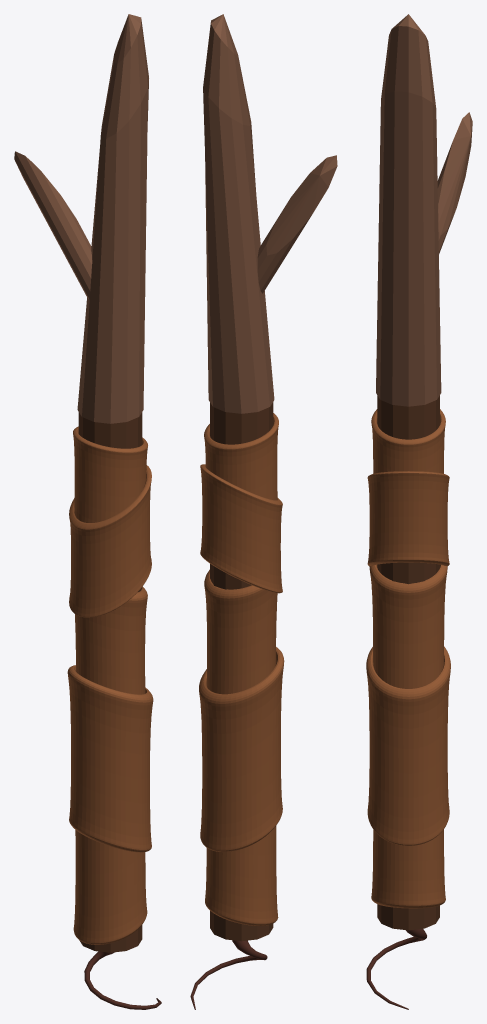
File: Wand 369.glb
The picture shows the model from 3 angles, left to right: view 1: azimuth 30°, elevation 25°; view 2: azimuth 210°, elevation 25°; view 3: azimuth 270°, elevation 25°; orthographic projection.
Visible parts, largest first — view 1: GeneratedWand; view 2: GeneratedWand; view 3: GeneratedWand.
Part boxes in pixels (x1,y1,x2,y2): GeneratedWand: [14, 14, 161, 1009]; GeneratedWand: [190, 14, 337, 1009]; GeneratedWand: [366, 14, 472, 1009].
Size of the model in its own units: 0.0615 by 0.5217 by 0.0513.
